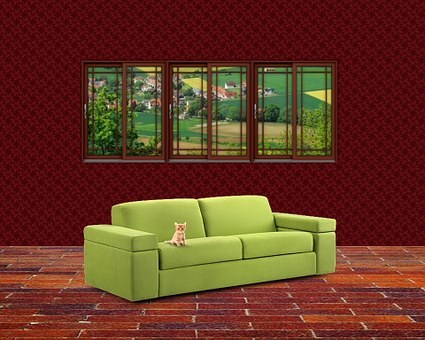cat: (162, 219, 189, 250)
sofa: (64, 185, 347, 307)
